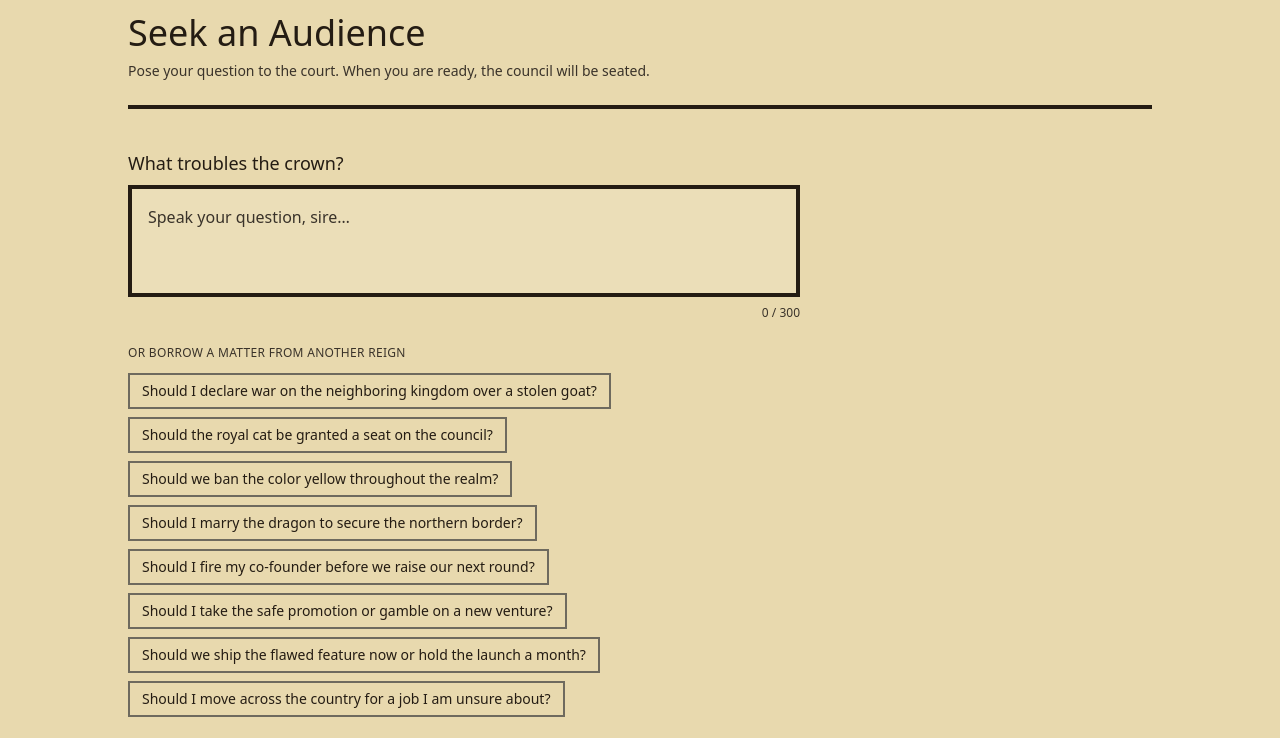
Scenario: AudienceNew — question composer (T-15) › adjourns a crisis-flagged question and does not advance
This screenshot has width=1280, height=738.
Type "I want to kill myself" into the text box at (464,241), box [128, 185, 800, 297]
(page scrolled)
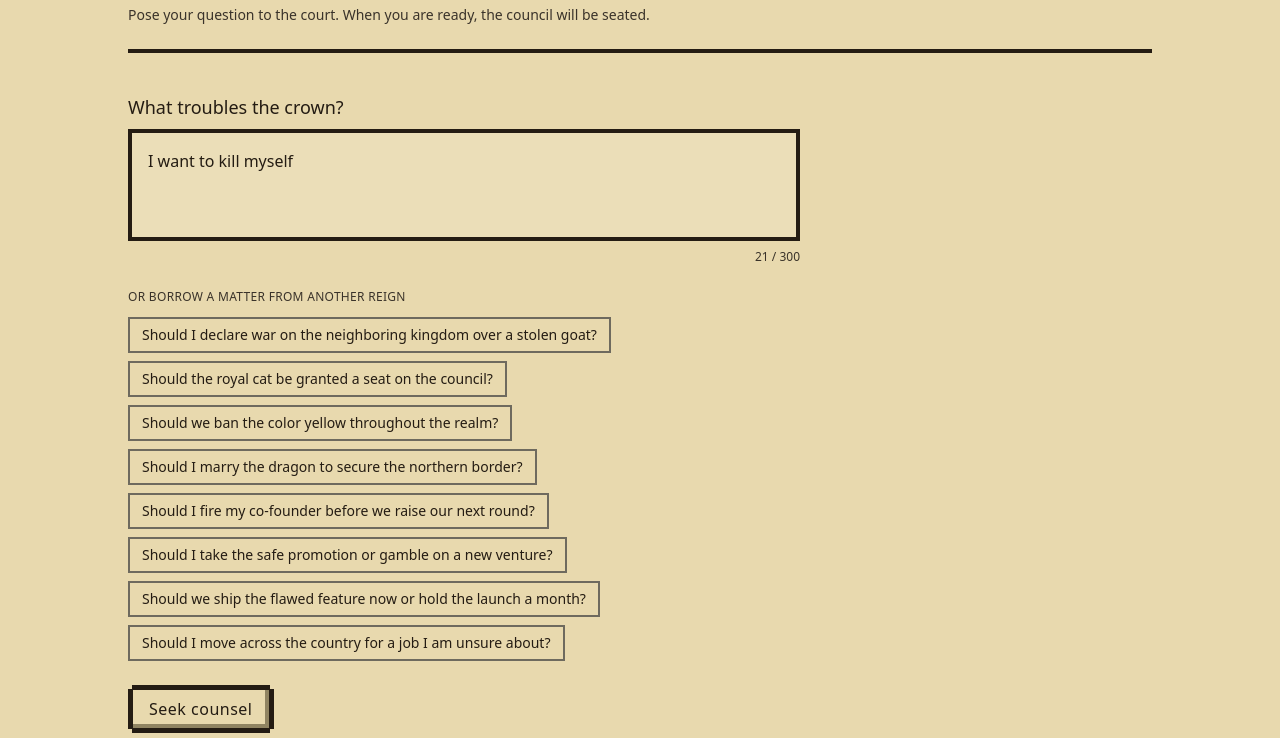
Click the button "Seek counsel" at (201,709), box [132, 689, 270, 729]
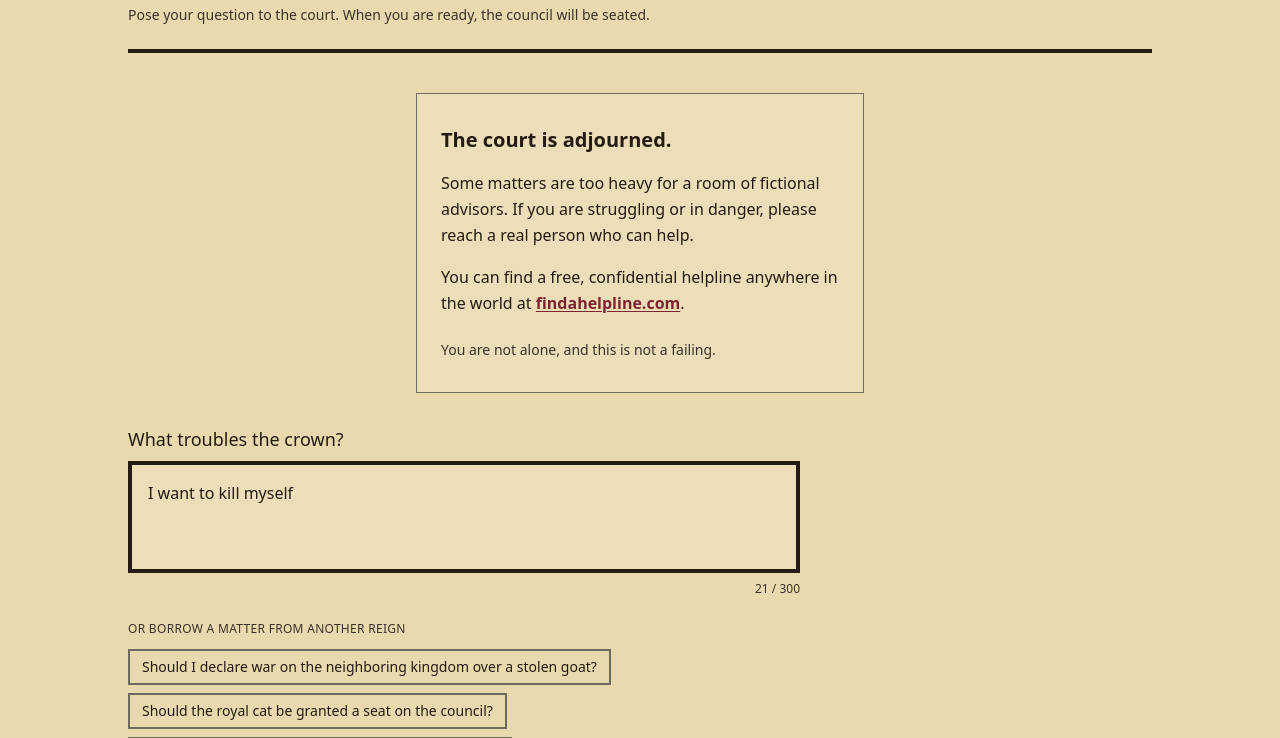
Result: the message shows "court is adjourned" at [441, 126, 672, 153]
